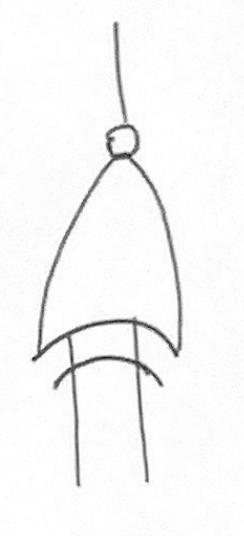XNOR: (17, 111, 229, 415)
